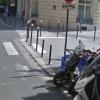Motorcycle: (42, 44, 100, 100)
